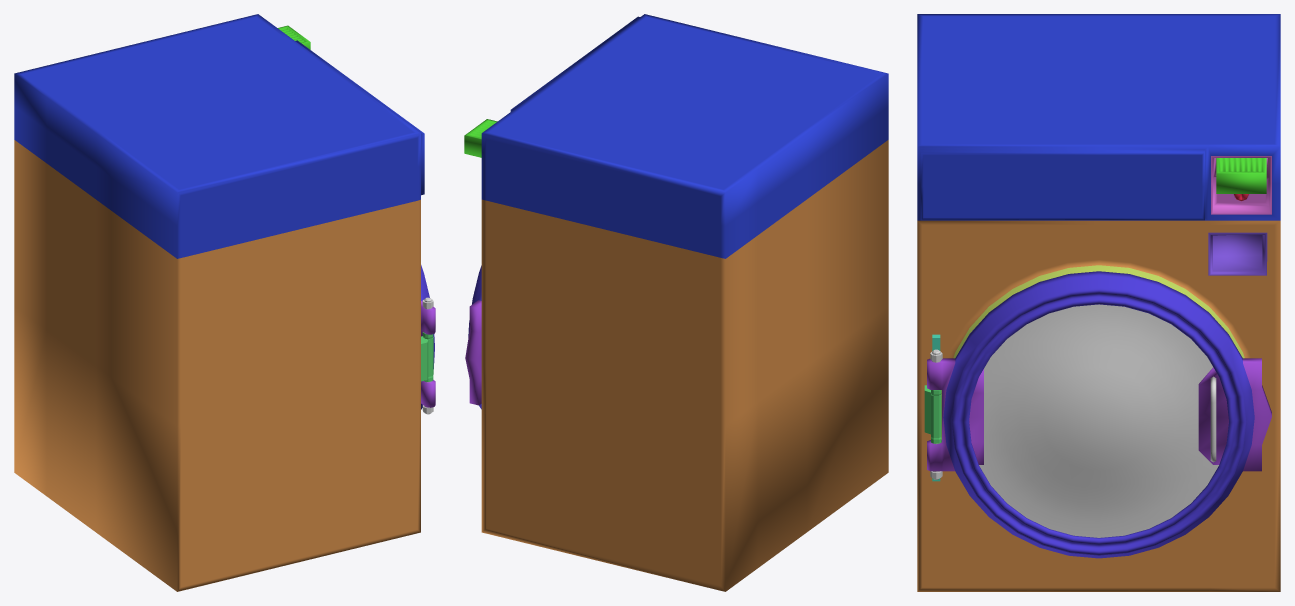
The model's file is washing machine.fbx.
The picture shows the model from 3 angles, left to right: view 1: azimuth 30°, elevation 25°; view 2: azimuth 150°, elevation 25°; view 3: azimuth 270°, elevation 25°; orthographic projection. The views are drawn at different scales.
Visible parts, largest first — view 1: washing machine main, washing machine main.001, washing machine main.004; view 2: washing machine main, washing machine main.001; view 3: washing machine main, washing machine glass, washing machine main.001, washing machine main.004, washing machine main.002.
Boxes of the visible parts, <box> form: washing machine main: <box>14,14,424,591</box>; washing machine main.001: <box>421,265,435,409</box>; washing machine main.004: <box>421,332,433,381</box>; washing machine main: <box>464,14,888,591</box>; washing machine main.001: <box>465,265,481,409</box>; washing machine main: <box>917,14,1280,591</box>; washing machine glass: <box>979,304,1218,537</box>; washing machine main.001: <box>927,271,1271,558</box>; washing machine main.004: <box>924,334,941,481</box>; washing machine main.002: <box>1210,376,1216,462</box>.
Size of the model in its own units: 366 by 493 by 365.
